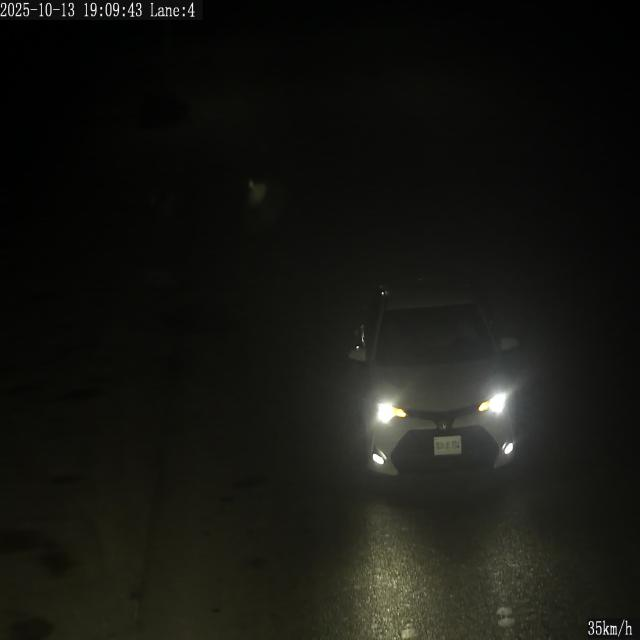BUS: (434, 435, 461, 455)
